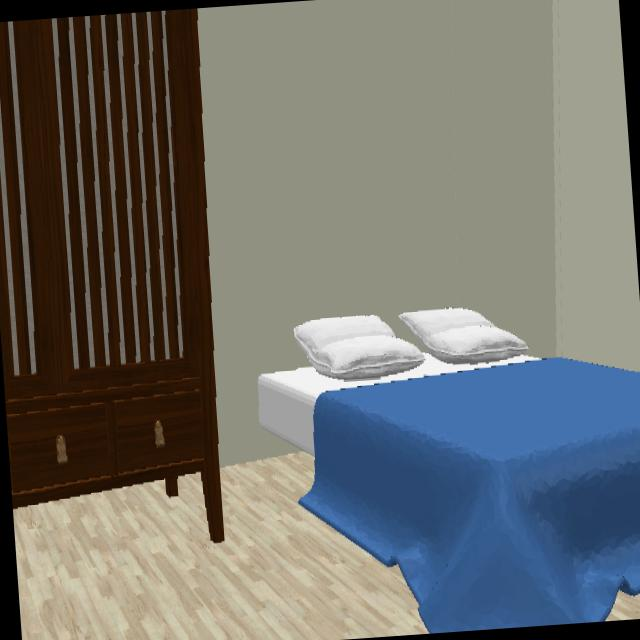bed: (258, 306, 640, 633)
pillow: (293, 316, 425, 381), (398, 311, 528, 363)
wardrobe: (0, 8, 223, 542)
